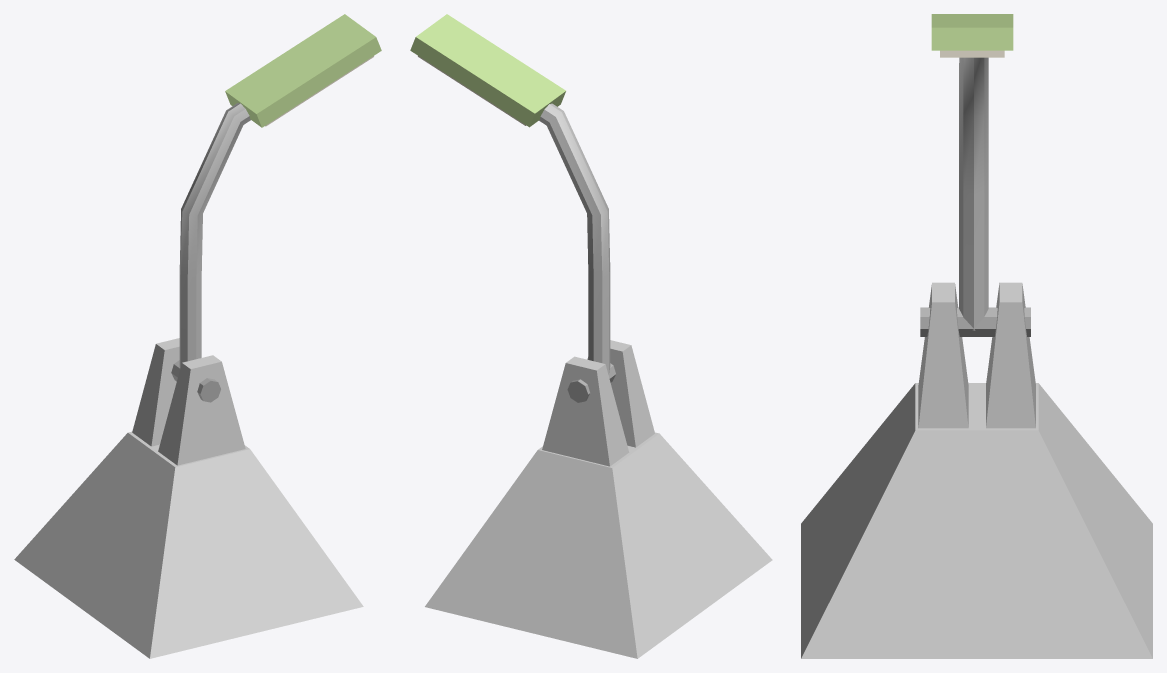
Rendered from lamp_1.fbx.
The picture shows the model from 3 angles, left to right: view 1: azimuth 30°, elevation 25°; view 2: azimuth 150°, elevation 25°; view 3: azimuth 270°, elevation 25°; orthographic projection. The views are drawn at different scales.
Parts seen in each view (by area): view 1: Cylinder_2, Cylinder; view 2: Cylinder_2, Cylinder; view 3: Cylinder_2, Cylinder.
Boxes of the visible parts, bbox=[...] form: Cylinder_2: bbox=[14, 338, 363, 658]; Cylinder: bbox=[179, 14, 381, 368]; Cylinder_2: bbox=[425, 340, 772, 658]; Cylinder: bbox=[410, 14, 610, 375]; Cylinder_2: bbox=[801, 282, 1152, 658]; Cylinder: bbox=[931, 14, 1013, 330].
Size of the model in its own units: 77.57 by 136 by 64.59.
